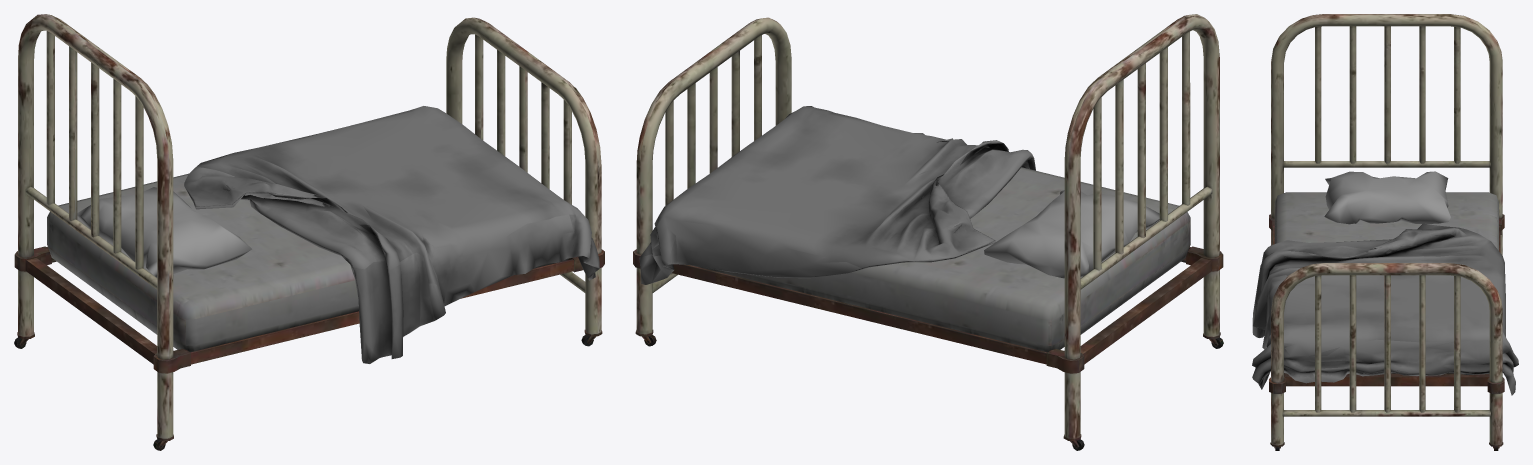
File: scene-hospital-bed.glb
3 views of the same model, side by side, from view 1: azimuth 30°, elevation 25°; view 2: azimuth 150°, elevation 25°; view 3: azimuth 270°, elevation 25° (orthographic). The views are drawn at different scales.
Visible parts, largest first — view 1: low_Pillow_1_bed_0, low_Pillow_1_lagen_0, low_Pillow_1_pillow_0; view 2: low_Pillow_1_bed_0, low_Pillow_1_lagen_0, low_Pillow_1_pillow_0; view 3: low_Pillow_1_bed_0, low_Pillow_1_lagen_0, low_Pillow_1_pillow_0.
Part boxes in pixels (x1=…): low_Pillow_1_bed_0: x1=14, y1=14, x2=604, y2=450; low_Pillow_1_lagen_0: x1=184, y1=106, x2=599, y2=363; low_Pillow_1_pillow_0: x1=77, y1=187, x2=251, y2=277; low_Pillow_1_bed_0: x1=633, y1=14, x2=1223, y2=450; low_Pillow_1_lagen_0: x1=639, y1=106, x2=1035, y2=284; low_Pillow_1_pillow_0: x1=984, y1=190, x2=1159, y2=278; low_Pillow_1_bed_0: x1=1269, y1=14, x2=1504, y2=450; low_Pillow_1_lagen_0: x1=1252, y1=223, x2=1518, y2=395; low_Pillow_1_pillow_0: x1=1324, y1=171, x2=1450, y2=224.
Size of the model in its own units: 2.2 by 1.64 by 1.45.
3 materials, 2 textured.
